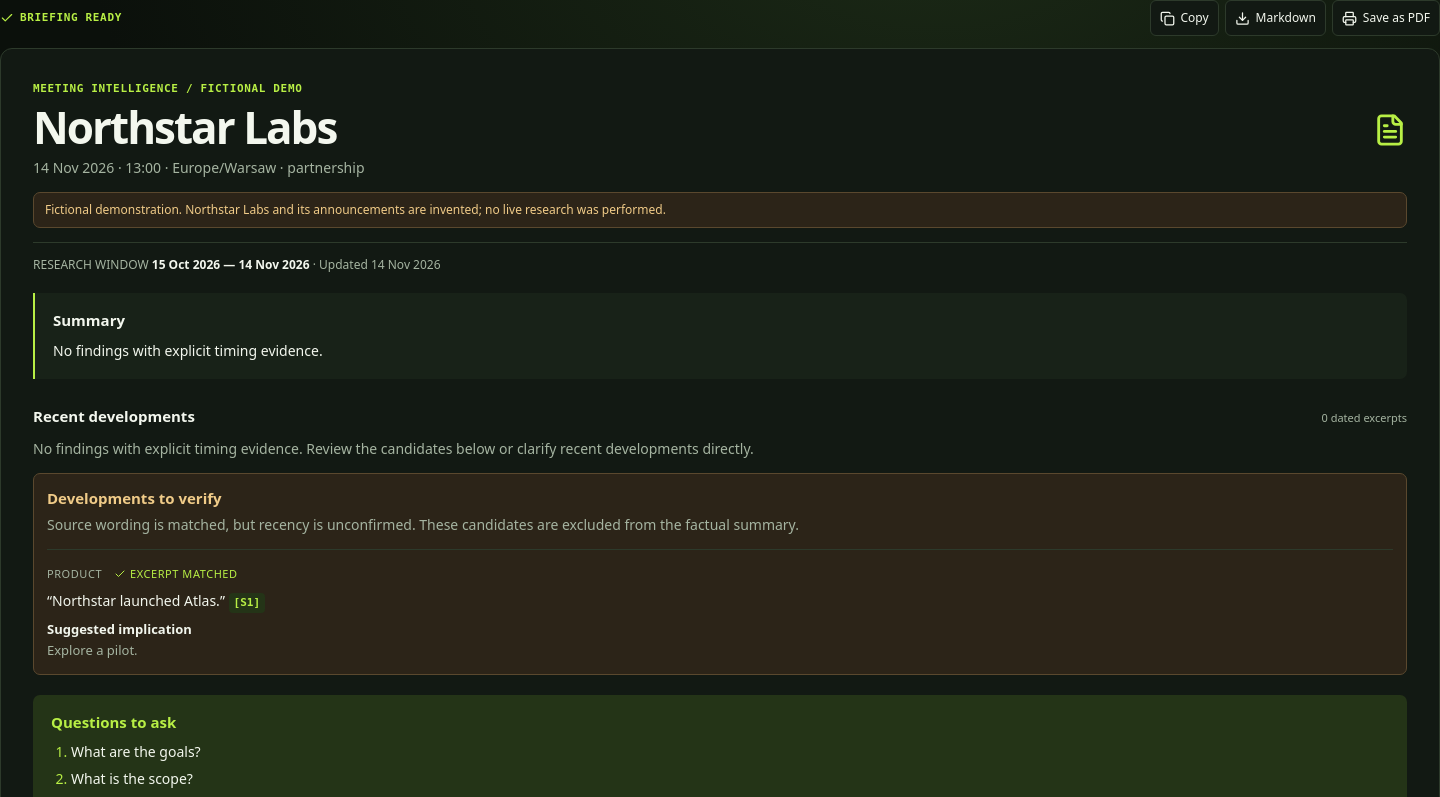
Evidence and demo boundaries › separates provider date estimates from dated evidence and exposes origin
Expected: the heading "Developments to verify" is shown, [47, 488, 222, 508]
Expected: the text "excluded from the factual summary" is shown, [47, 515, 799, 534]
Click the button named "Show source S1": (247, 603) [229, 593, 265, 613]
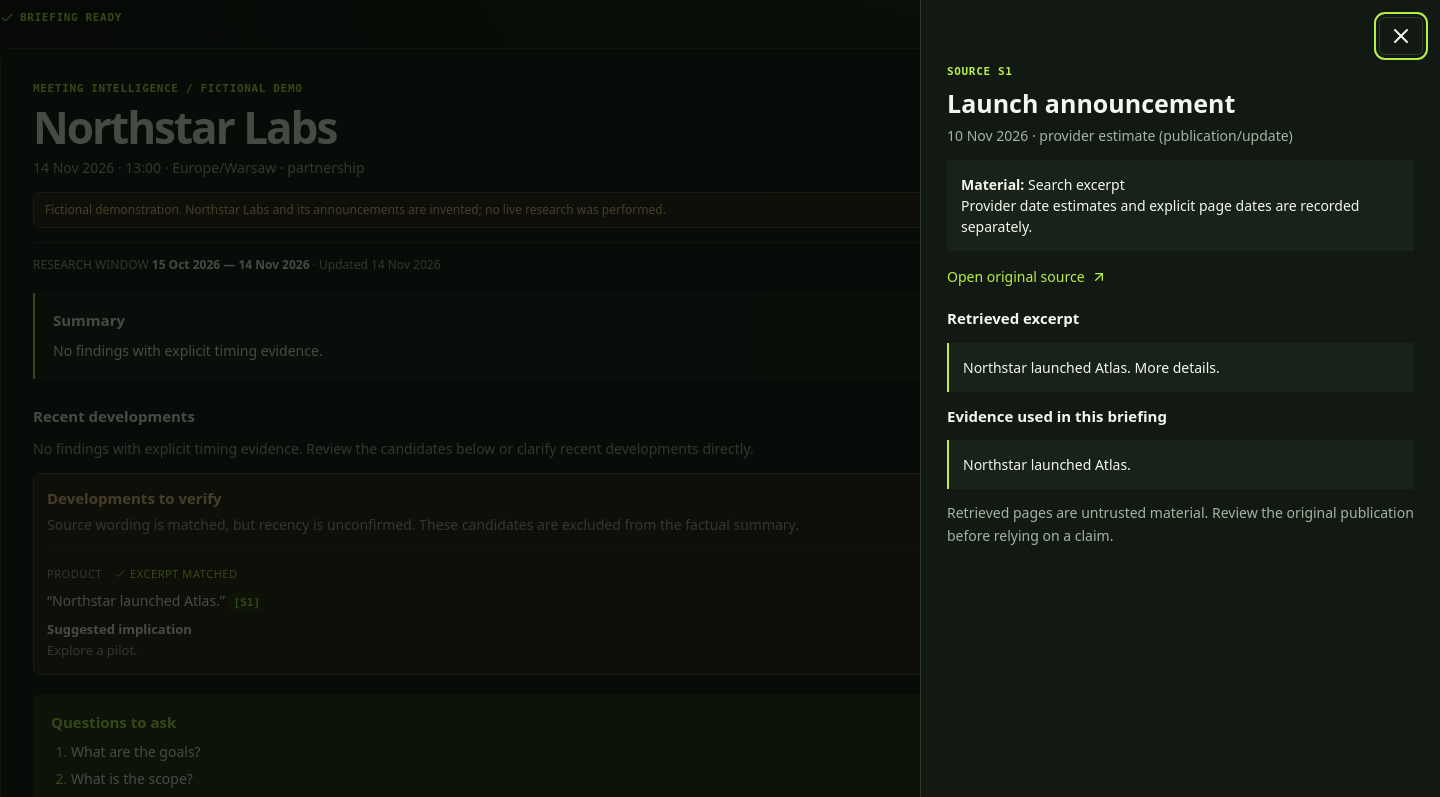
Result: the dialog shows "provider estimate (publication/update)" at [947, 126, 1293, 145]
Result: the dialog shows "Search excerpt" at [1028, 175, 1125, 194]
